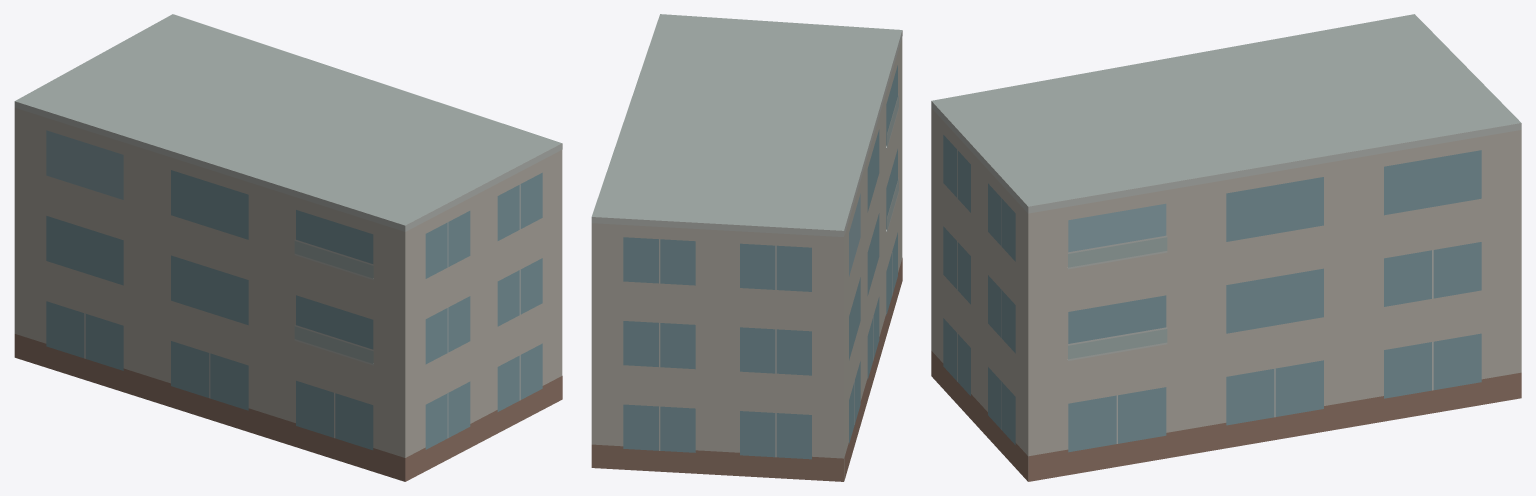
The model's file is survey-upis-32888781.glb.
3 renders of one model, left to right at view 1: azimuth 30°, elevation 25°; view 2: azimuth 150°, elevation 25°; view 3: azimuth 270°, elevation 25°, orthographic. The views are drawn at different scales.
Parts seen in each view (by area): view 1: survey-upis-32888781.tmp; view 2: survey-upis-32888781.tmp; view 3: survey-upis-32888781.tmp.
Part boxes in pixels (box(x1,y1,x2,y2)): survey-upis-32888781.tmp: box(14, 14, 562, 481); survey-upis-32888781.tmp: box(591, 14, 902, 481); survey-upis-32888781.tmp: box(931, 14, 1521, 481).
Bounding box in the file's own units: 14.73 × 9.8 × 19.07.
